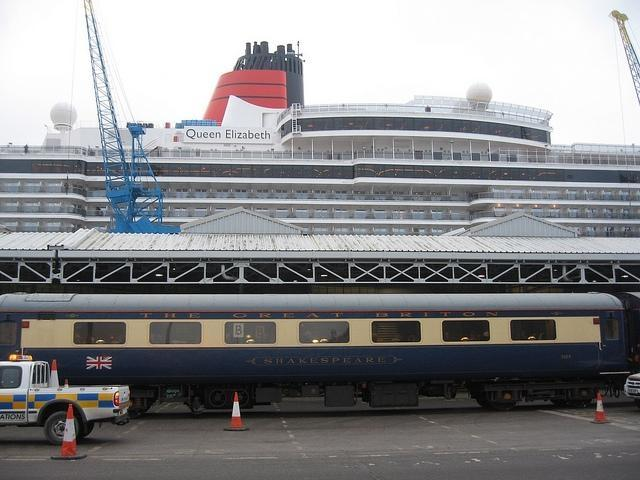car: (624, 372, 640, 399)
truck: (0, 354, 130, 445)
